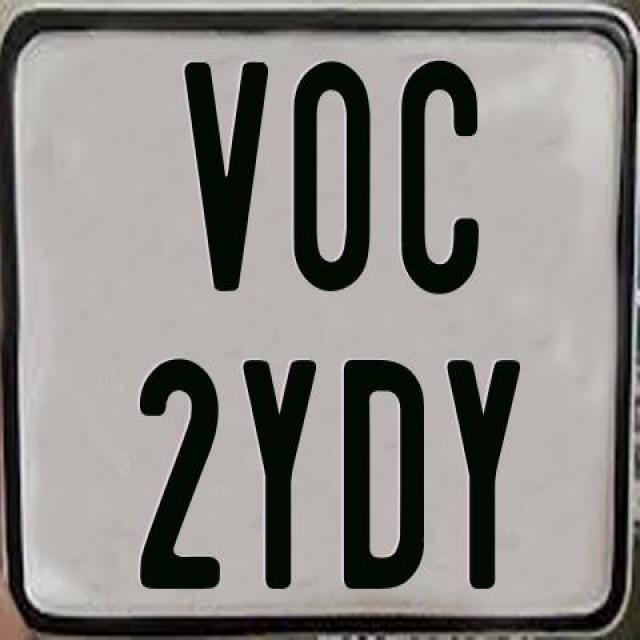0: (290, 59, 370, 298)
2: (138, 353, 222, 588)
C: (399, 58, 477, 292)
D: (344, 358, 428, 592)
V: (182, 61, 274, 300)
Y: (241, 360, 319, 595), (444, 360, 520, 590)
